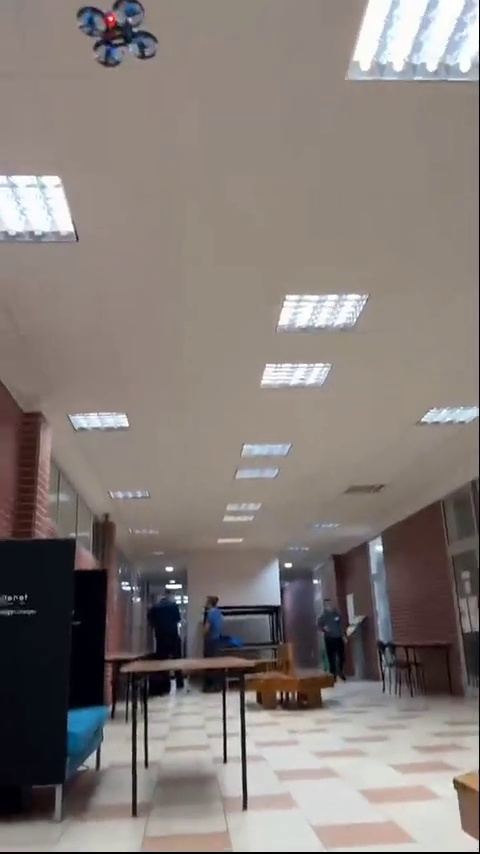drone: (80, 6, 156, 66)
no vest: (155, 586, 188, 700), (322, 589, 349, 671), (200, 590, 233, 653)
